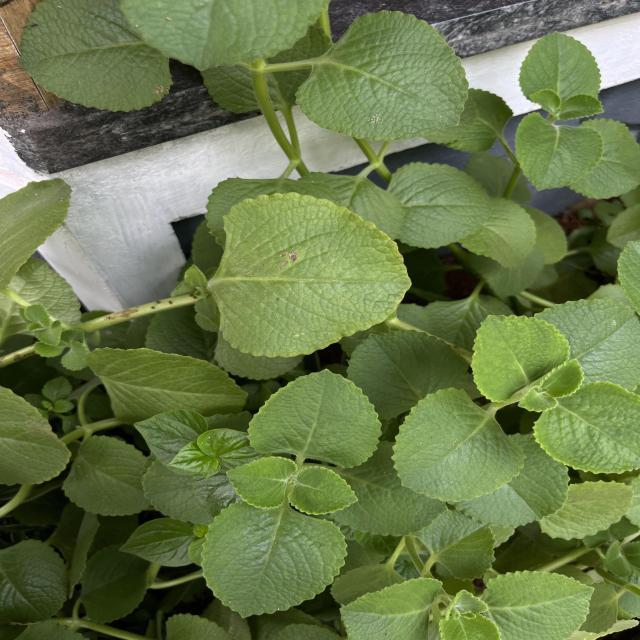Plectranthus barbatus: (215, 190, 414, 358), (293, 7, 471, 143), (16, 0, 176, 114), (200, 503, 350, 620), (390, 386, 528, 503), (246, 368, 382, 468), (84, 347, 250, 420), (449, 432, 572, 528), (530, 380, 640, 476), (532, 298, 640, 391), (387, 160, 494, 250), (468, 313, 572, 404), (346, 328, 470, 404), (482, 568, 596, 640), (61, 433, 153, 518), (513, 111, 604, 192), (517, 29, 601, 114), (336, 575, 444, 640), (1, 536, 68, 625), (458, 195, 537, 269), (569, 118, 640, 200), (225, 456, 299, 510), (289, 464, 359, 516), (560, 93, 604, 122)
